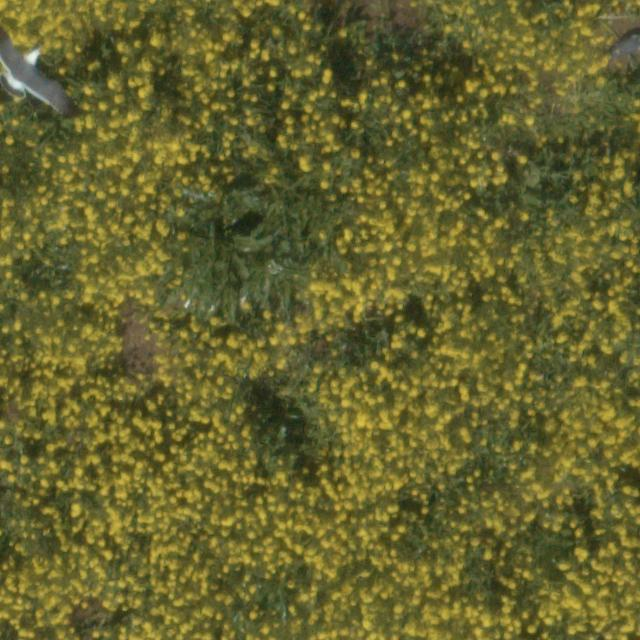F: (2, 37, 62, 107)
